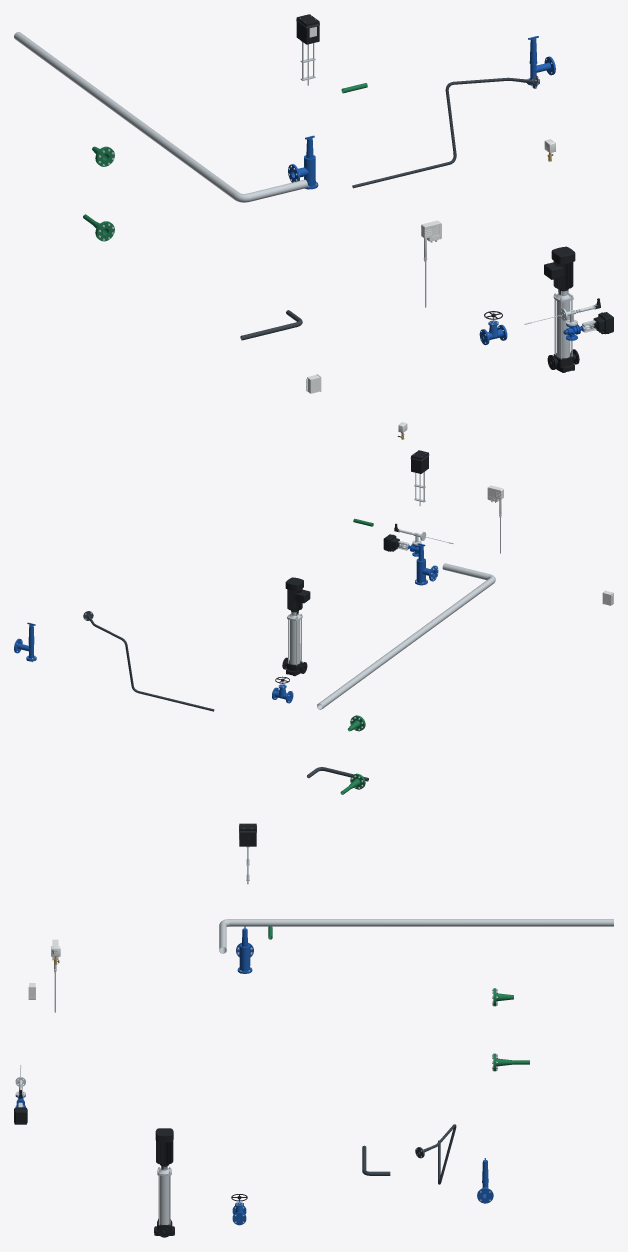
3 views of the same model, one above another, from view 1: azimuth 30°, elevation 25°; view 2: azimuth 150°, elevation 25°; view 3: azimuth 270°, elevation 25° (orthographic). The views are drawn at different scales.
Parts seen in each view (by area): view 1: safety_vent_1 / steel, tds_without_fv / dark, pump_1 CAD solid 15, safety_2 / blue, eco_inlet_adapter / green, bcv925 / bcv925_0.npz, pump_1 CAD solid 2, flash_steam_common / blue, lcs600 CAD solid 0, gpz_drive / black; view 2: safety_vent_1 / steel, pump_1 CAD solid 15, tds_without_fv / dark, safety_2 / blue; view 3: safety_vent_1 / steel, pump_1 CAD solid 15.
Part boxes in pixels (box(x1,y1,x2,y2)): safety_vent_1 / steel: box(14, 32, 307, 202); tds_without_fv / dark: box(352, 75, 538, 188); pump_1 CAD solid 15: box(544, 246, 575, 290); safety_2 / blue: box(288, 135, 318, 189); eco_inlet_adapter / green: box(83, 146, 114, 241); bcv925 / bcv925_0.npz: box(563, 312, 613, 340); pump_1 CAD solid 2: box(556, 301, 570, 358); flash_steam_common / blue: box(527, 36, 555, 85); lcs600 CAD solid 0: box(421, 220, 441, 307); gpz_drive / black: box(296, 14, 319, 44); safety_vent_1 / steel: box(317, 563, 495, 709); pump_1 CAD solid 15: box(285, 577, 310, 611); tds_without_fv / dark: box(83, 611, 214, 711); safety_2 / blue: box(415, 543, 438, 585); safety_vent_1 / steel: box(219, 919, 613, 953); pump_1 CAD solid 15: box(155, 1128, 173, 1165).
Size of the model in its own units: 5.09 by 3.58 by 6.01.
